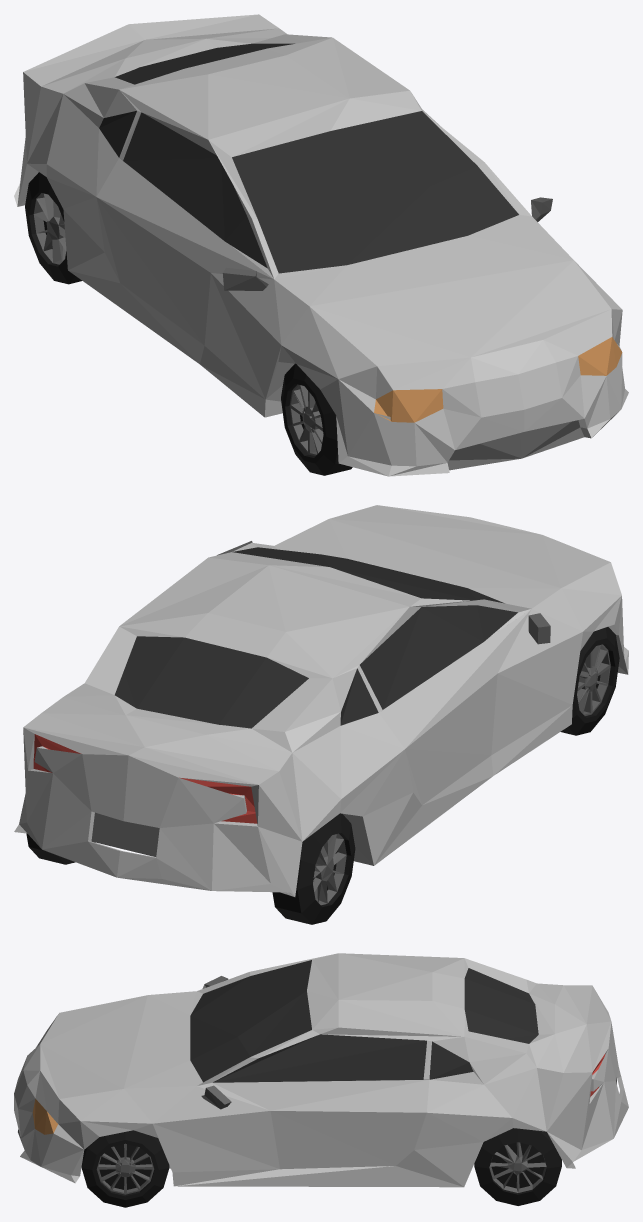
File: coupe.glb
The picture shows the model from 3 angles, top to bottom: view 1: azimuth 30°, elevation 25°; view 2: azimuth 150°, elevation 25°; view 3: azimuth 270°, elevation 25°; orthographic projection. The views are drawn at different scales.
Parts seen in each view (by area): view 1: SportsCar2_Cube.006, SportsCar2_FrontRightWheel_Cylinder.018, SportsCar2_BackWheels_Cylinder.002; view 2: SportsCar2_Cube.006, SportsCar2_BackWheels_Cylinder.002, SportsCar2_FrontRightWheel_Cylinder.018; view 3: SportsCar2_Cube.006, SportsCar2_BackWheels_Cylinder.002, SportsCar2_FrontLeftWheel_Cylinder.017.
Part boxes in pixels (bbox=[...]): SportsCar2_Cube.006: bbox=[14, 14, 628, 476]; SportsCar2_FrontRightWheel_Cylinder.018: bbox=[281, 363, 352, 475]; SportsCar2_BackWheels_Cylinder.002: bbox=[25, 172, 81, 284]; SportsCar2_Cube.006: bbox=[14, 505, 628, 896]; SportsCar2_BackWheels_Cylinder.002: bbox=[26, 813, 355, 924]; SportsCar2_FrontRightWheel_Cylinder.018: bbox=[560, 627, 619, 735]; SportsCar2_Cube.006: bbox=[14, 953, 628, 1187]; SportsCar2_BackWheels_Cylinder.002: bbox=[474, 1128, 561, 1205]; SportsCar2_FrontLeftWheel_Cylinder.017: bbox=[81, 1130, 169, 1207].
Size of the model in its own units: 1.85 by 1.2 by 3.93.
